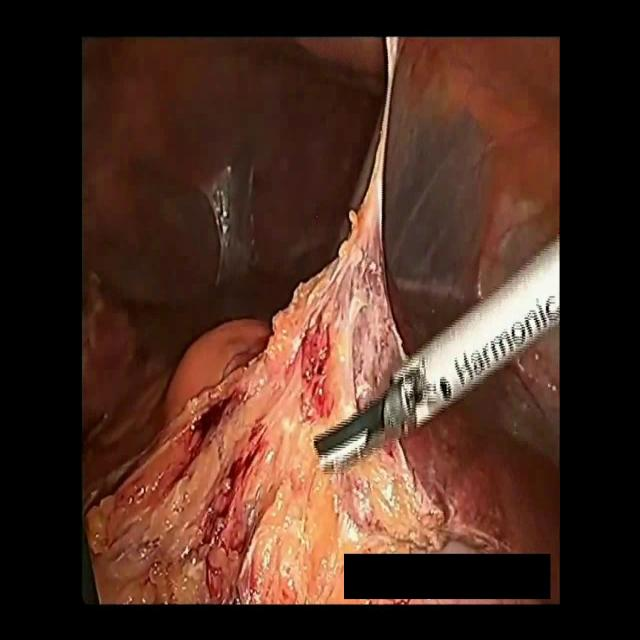surgical-area: (84, 37, 561, 609)
surgical-tool: (314, 234, 561, 473)
